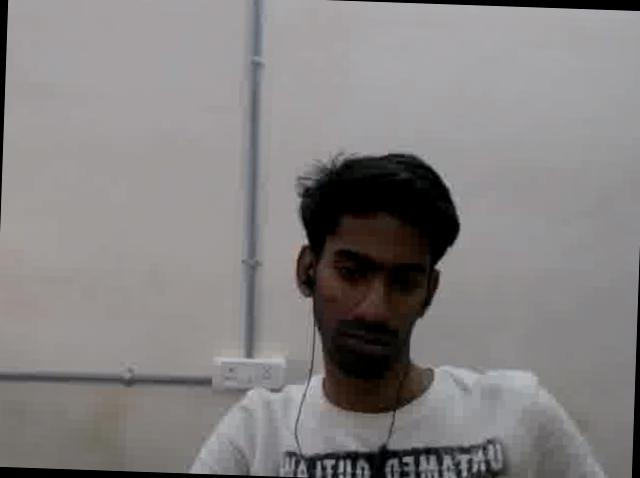bosan: (314, 215, 441, 374)
